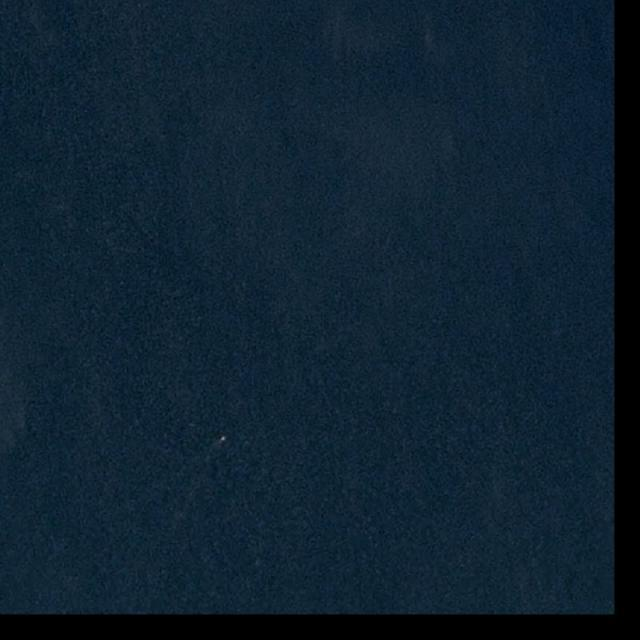ship: (219, 434, 228, 443)
